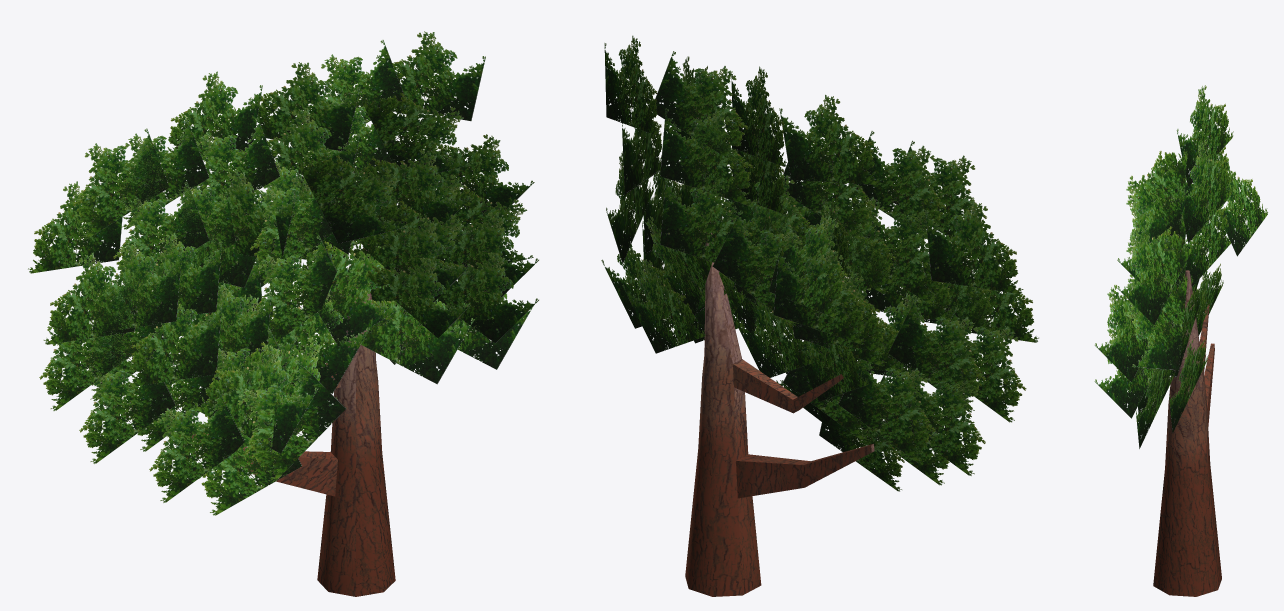
3 renders of one model, left to right at view 1: azimuth 30°, elevation 25°; view 2: azimuth 150°, elevation 25°; view 3: azimuth 270°, elevation 25°, orthographic. The views are drawn at different scales.
Visible parts, largest first — view 1: Cylinder001, Plane057, Plane011, Plane042, Plane058, Plane047, Plane023, Plane012, Plane055, Plane048, Plane046, Plane044 (+38 smaller); view 2: Cylinder001, Plane043, Plane059, Plane035, Plane045, Plane016, Plane051, Plane052, Plane020, Plane015, Plane048, Plane049 (+33 smaller); view 3: Cylinder001, Plane054, Plane038, Plane053, Plane046, Plane044, Plane028, Plane026, Plane025, Plane031, Plane021, Plane018 (+5 smaller).
Part boxes in pixels (box(x1,y1,x2,y2)): Cylinder001: box(191, 244, 395, 596); Plane057: box(73, 128, 169, 239); Plane011: box(149, 389, 244, 502); Plane042: box(298, 155, 406, 243); Plane058: box(43, 252, 140, 344); Plane047: box(125, 304, 222, 387); Plane023: box(237, 359, 346, 482); Plane012: box(193, 345, 318, 453); Plane055: box(89, 242, 182, 333); Plane048: box(79, 355, 175, 463); Plane046: box(381, 31, 485, 121); Plane044: box(254, 62, 360, 150); Cylinder001: box(685, 224, 874, 596); Plane043: box(779, 94, 881, 184); Plane059: box(925, 201, 1023, 294); Plane035: box(660, 108, 752, 205); Plane045: box(655, 51, 748, 163); Plane016: box(838, 359, 935, 463); Plane051: box(888, 297, 985, 412); Plane052: box(851, 131, 946, 239); Plane020: box(660, 178, 752, 270); Plane015: box(773, 247, 866, 344); Plane048: box(893, 361, 985, 475); Plane049: box(849, 198, 940, 306); Cylinder001: box(1153, 270, 1221, 596); Plane054: box(1117, 226, 1192, 324); Plane038: box(1126, 149, 1187, 243); Plane053: box(1126, 274, 1187, 370); Plane046: box(1176, 141, 1233, 242); Plane044: box(1176, 85, 1233, 186); Plane028: box(1094, 283, 1159, 382); Plane026: box(1218, 157, 1267, 256); Plane025: box(1184, 207, 1230, 286); Plane031: box(1094, 321, 1166, 418); Plane021: box(1169, 339, 1208, 432); Plane018: box(1136, 361, 1174, 448).
Size of the model in its own units: 129 by 137 by 47.15.
1 material, 1 textured.
